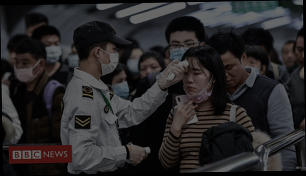mask_weared_incorrect: (180, 67, 212, 105)
with_mask: (168, 37, 198, 65), (12, 56, 37, 84), (100, 45, 120, 77), (42, 40, 63, 66), (110, 75, 130, 101), (126, 52, 145, 75), (68, 49, 80, 70)
without_mask: (221, 61, 243, 89), (281, 47, 298, 69), (293, 44, 304, 70)
